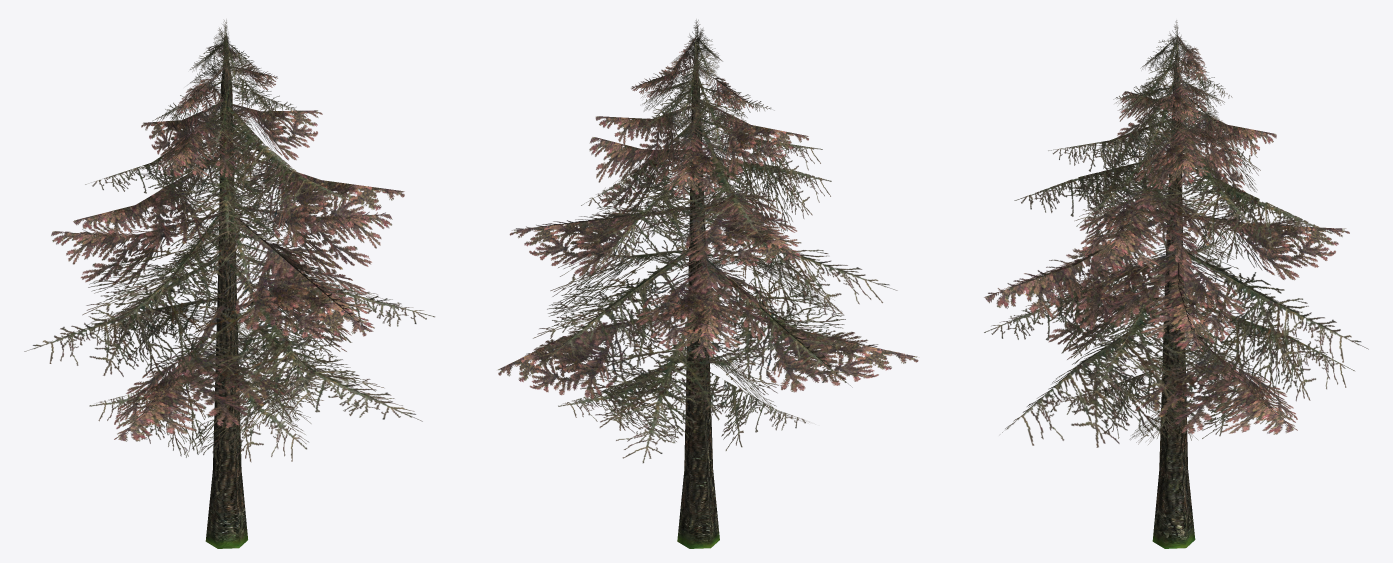
The model's file is tree4_8s.glb.
3 views of the same model, side by side, from view 1: azimuth 30°, elevation 25°; view 2: azimuth 150°, elevation 25°; view 3: azimuth 270°, elevation 25° (orthographic).
Parts seen in each view (by area): view 1: tree4_8s-col; view 2: tree4_8s-col; view 3: tree4_8s-col.
Part boxes in pixels (x1=…): tree4_8s-col: x1=24, y1=19, x2=434, y2=548; tree4_8s-col: x1=498, y1=19, x2=918, y2=548; tree4_8s-col: x1=984, y1=20, x2=1368, y2=548.
Bounding box in the file's own units: 12.75 × 17 × 12.03.
3 materials, 3 textured.
